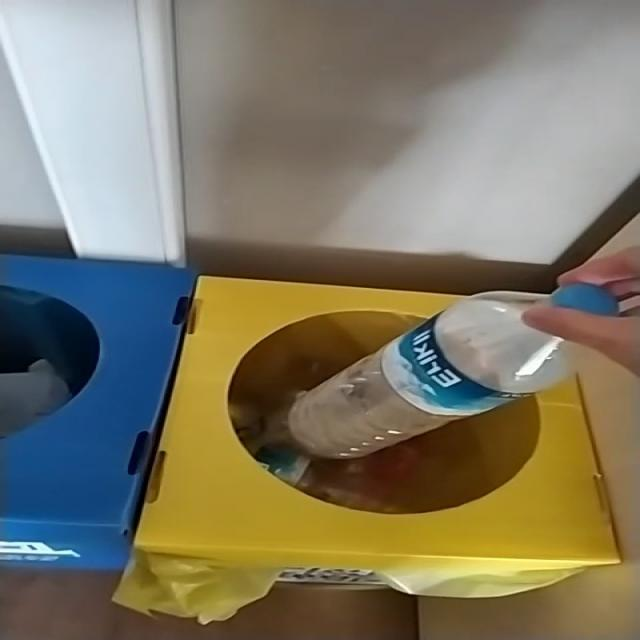Plastic: (287, 284, 619, 459)
